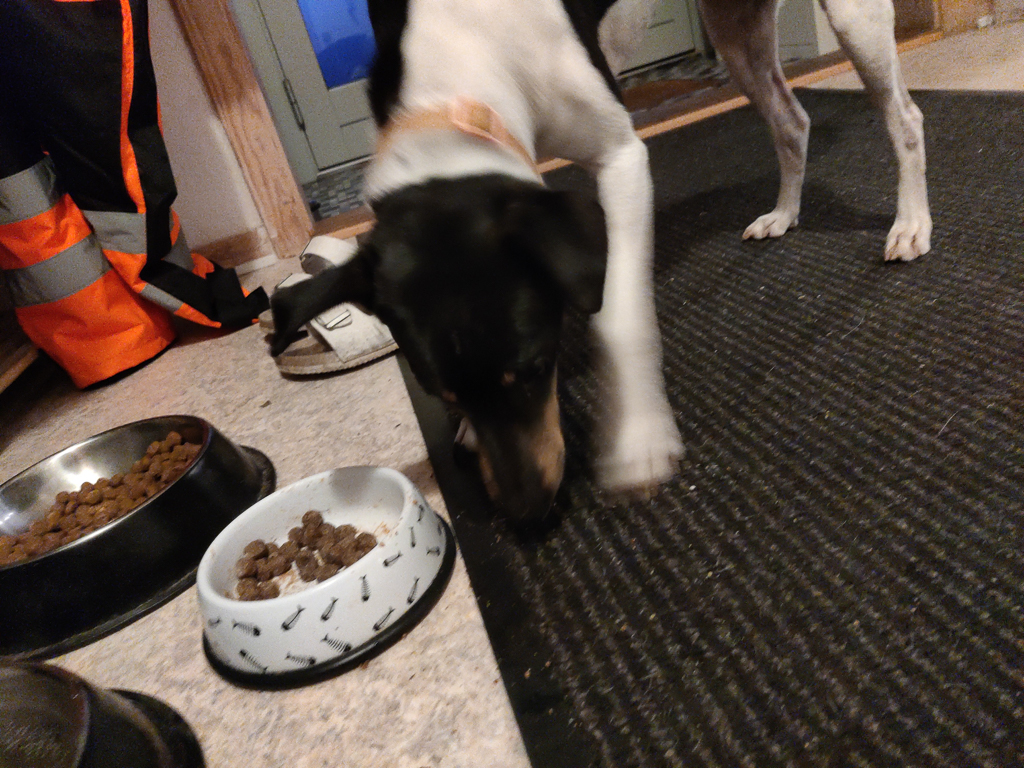Dog: (260, 0, 961, 570)
